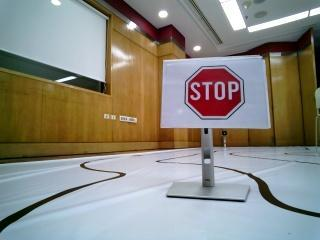stop: (166, 58, 273, 126)
